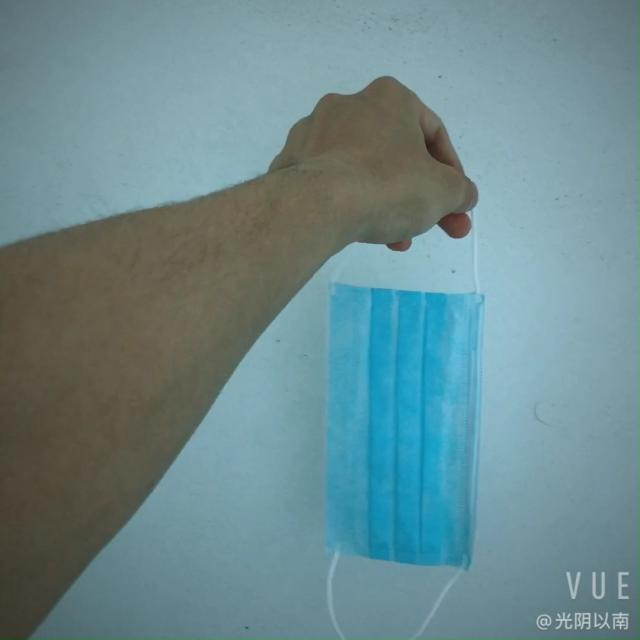non-organic waste: (309, 268, 504, 554)
